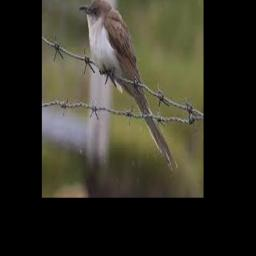Cuckoo: (79, 0, 178, 169)
